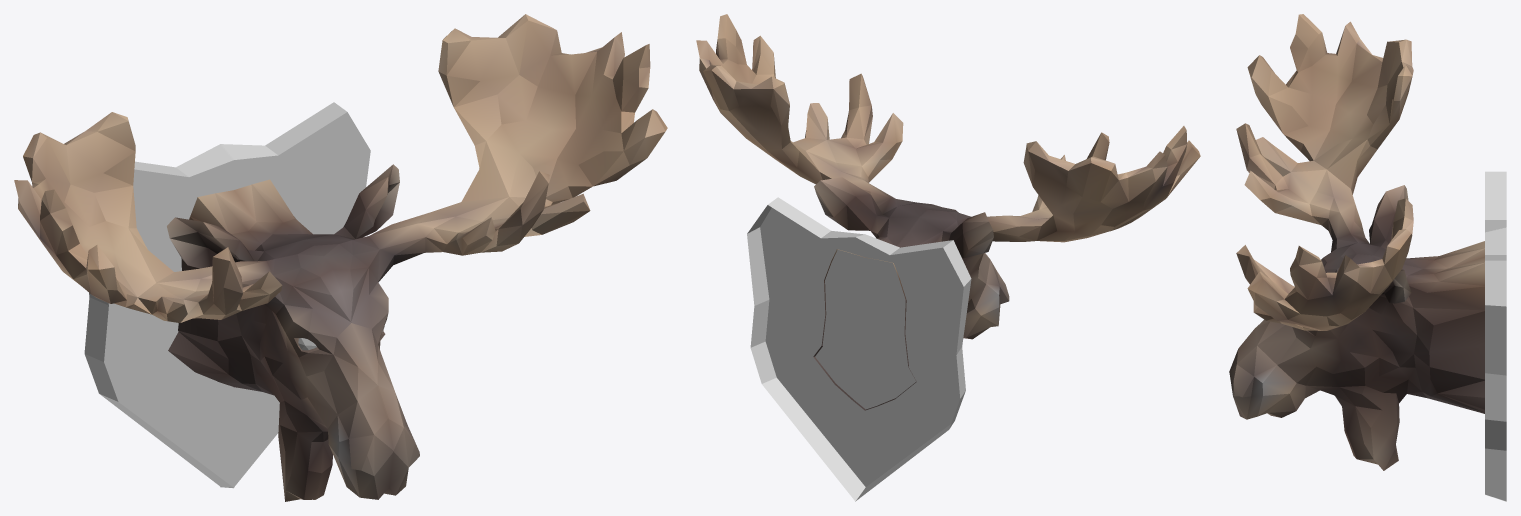
The model's file is EA_Prop_Hunter_Animal_Trophy_01c.fbx.
3 views of the same model, side by side, from view 1: azimuth 30°, elevation 25°; view 2: azimuth 150°, elevation 25°; view 3: azimuth 270°, elevation 25° (orthographic). The views are drawn at different scales.
Parts seen in each view (by area): view 1: EA_Prop_Hunter_Animal_Trophy_01c_LOD0; view 2: EA_Prop_Hunter_Animal_Trophy_01c_LOD0; view 3: EA_Prop_Hunter_Animal_Trophy_01c_LOD0.
Boxes of the visible parts, left/top/right/bottom form: EA_Prop_Hunter_Animal_Trophy_01c_LOD0: left=14, top=14, right=667, bottom=501; EA_Prop_Hunter_Animal_Trophy_01c_LOD0: left=696, top=14, right=1200, bottom=501; EA_Prop_Hunter_Animal_Trophy_01c_LOD0: left=1229, top=14, right=1506, bottom=501.
Size of what is drawn, in the model's own units: 1.87 by 1.37 by 0.9267.
